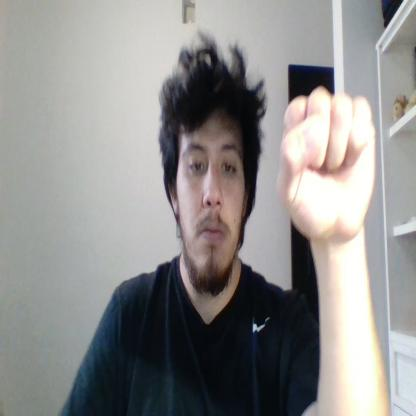S: (276, 86, 376, 240)
